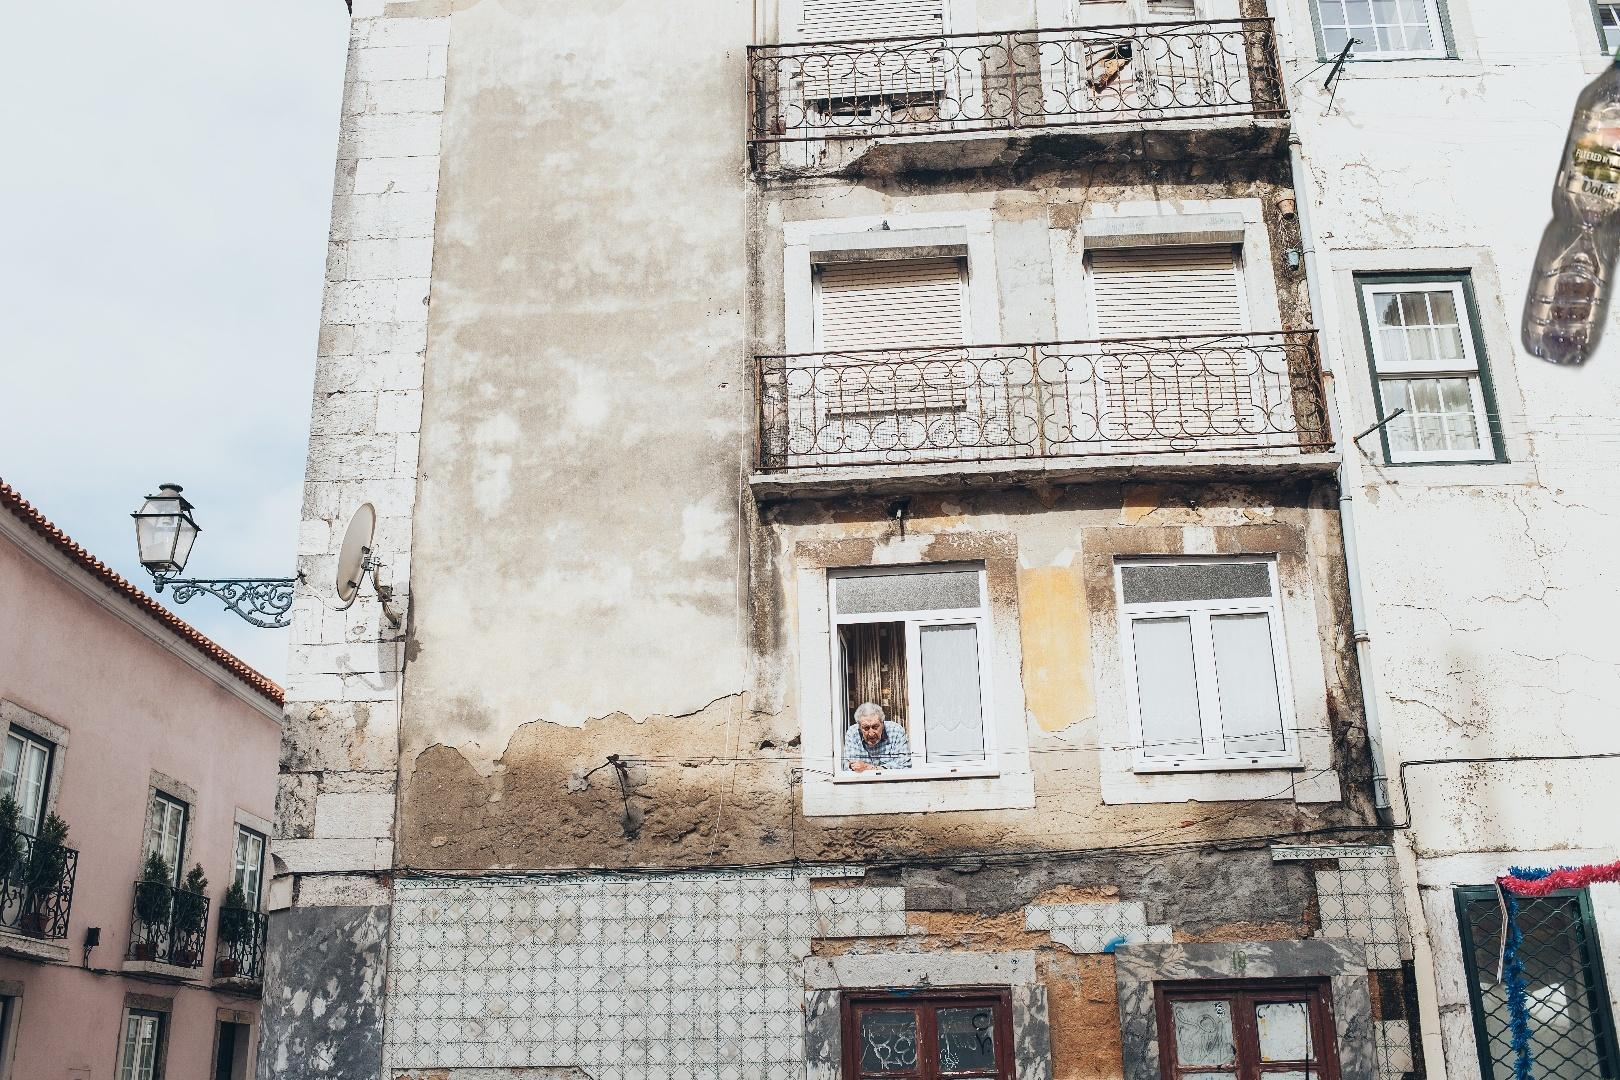plastic-bottles: (1518, 36, 1620, 376)
